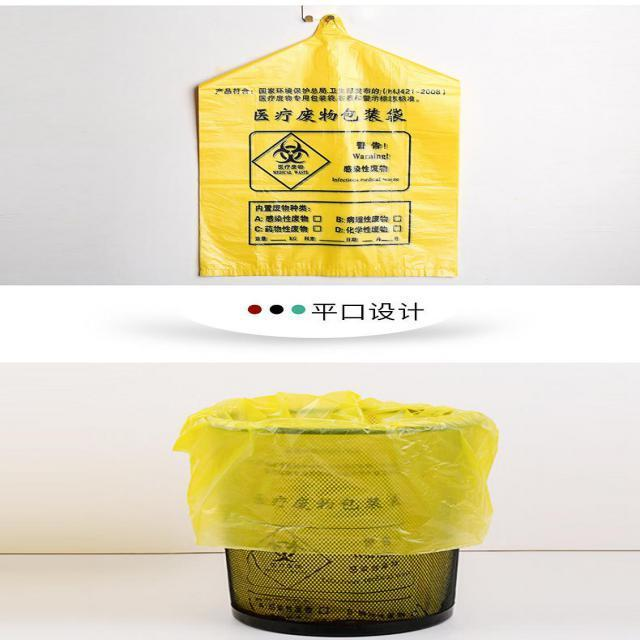waste: (202, 17, 459, 279), (193, 394, 474, 621)
